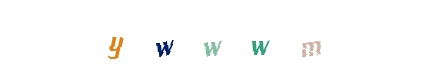M: (208, 0, 288, 80)
W: (124, 0, 204, 80), (182, 0, 262, 80), (203, 0, 283, 80)
Y: (75, 0, 155, 80)
